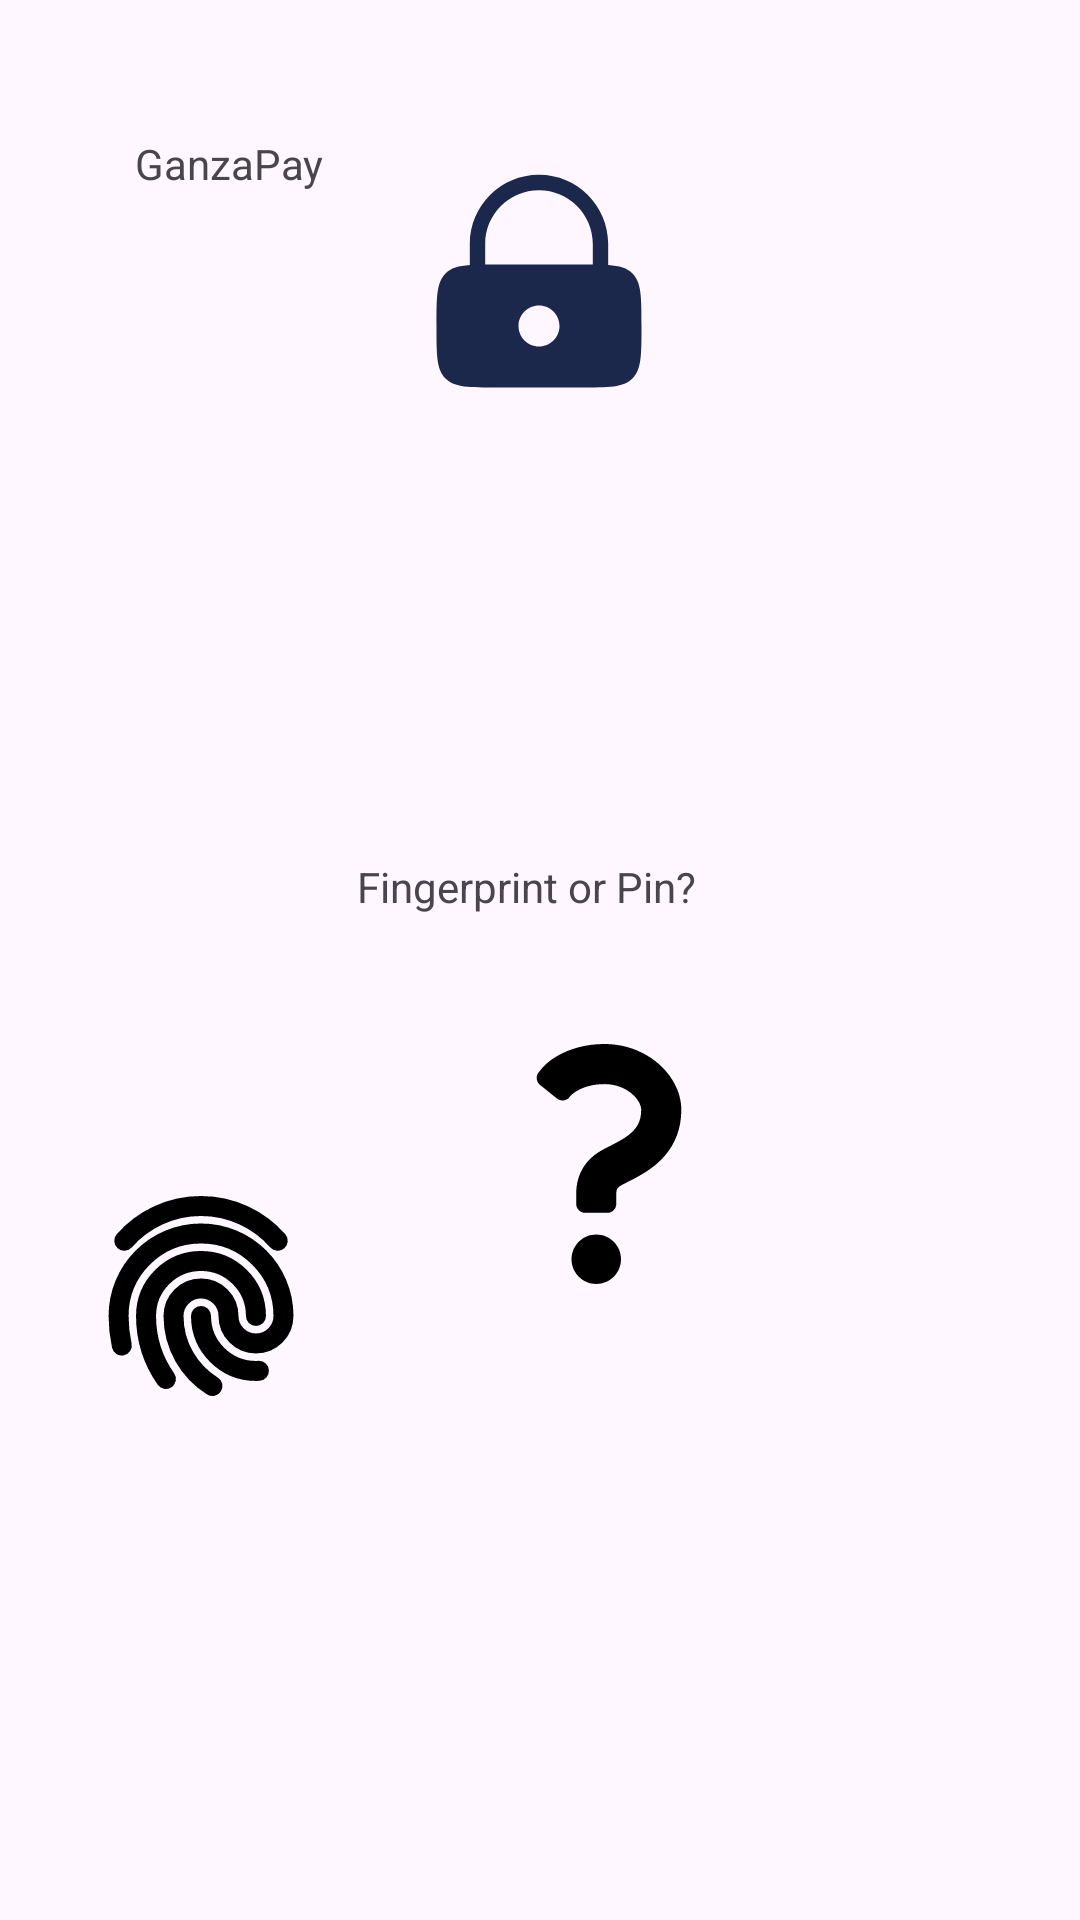

Screen size 1080 × 1920. Icon name, then its box in pixels as (x1,y1,x2,y2):
fingerprint: (108,1196,294,1396)
lock: (436,174,642,388)
question mark: (536,1044,682,1284)
